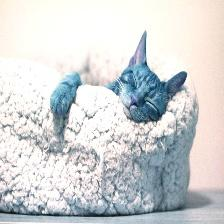kedo: (119, 35, 186, 125)
